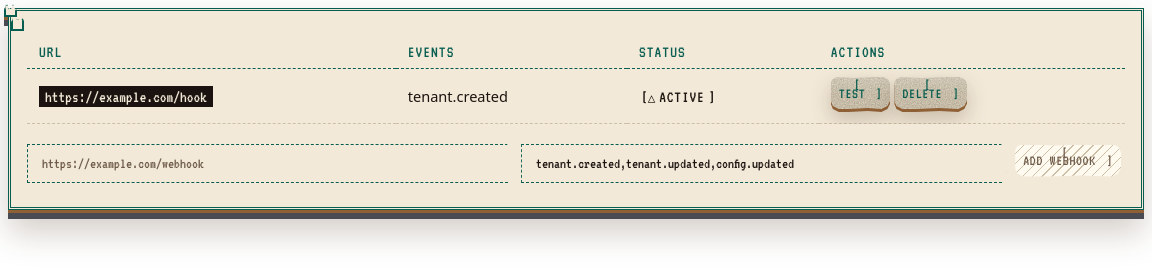
it: WebhookEditor delete › keeps the webhook when the user selects Keep
The width and height of the screenshot is (1152, 268).
Check: the text "https://example.com/hook" is shown, box [39, 86, 213, 107]
Click the button "Delete".
click(931, 93)  # box [894, 77, 967, 109]
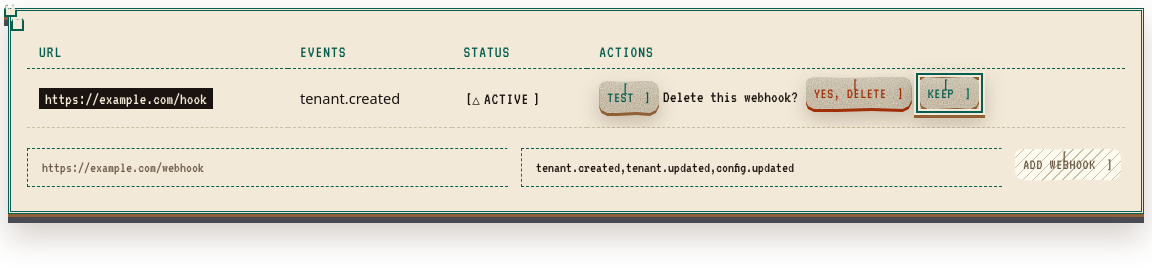
Click the button "Keep".
click(950, 93)  # box [920, 77, 979, 109]
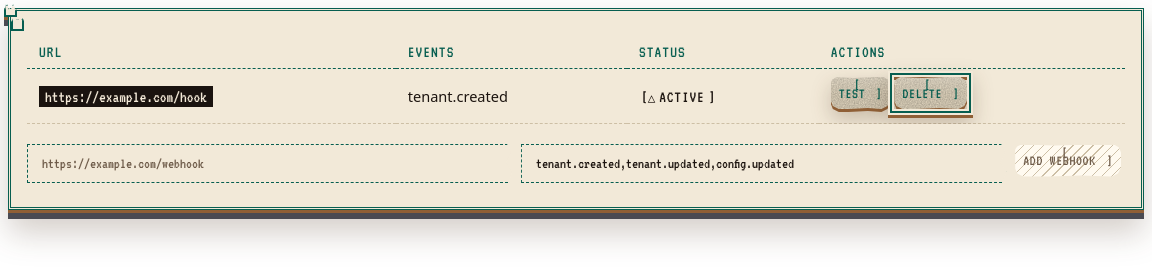
Check: the button "Delete" is shown, box [894, 77, 967, 109]
